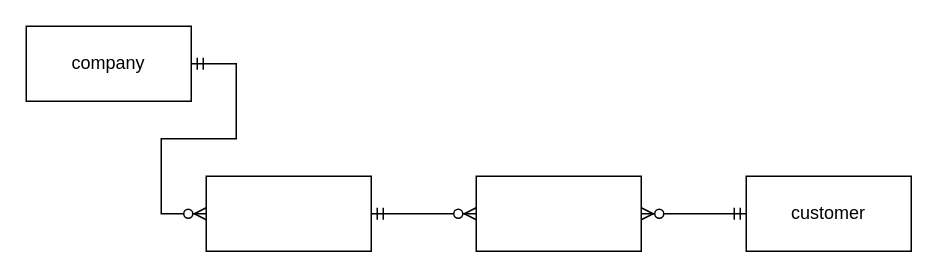
Some shapes in this 938 by 278 pixel diagram are drawn without their labels. Each missing label, with the box of its shape:
reservation: (475, 175, 641, 251)
trip: (205, 175, 371, 251)
